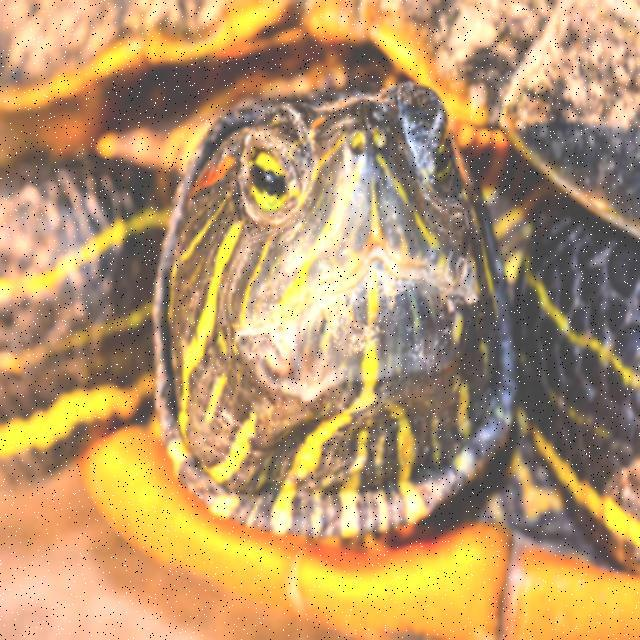tortoise: (0, 4, 640, 590)
